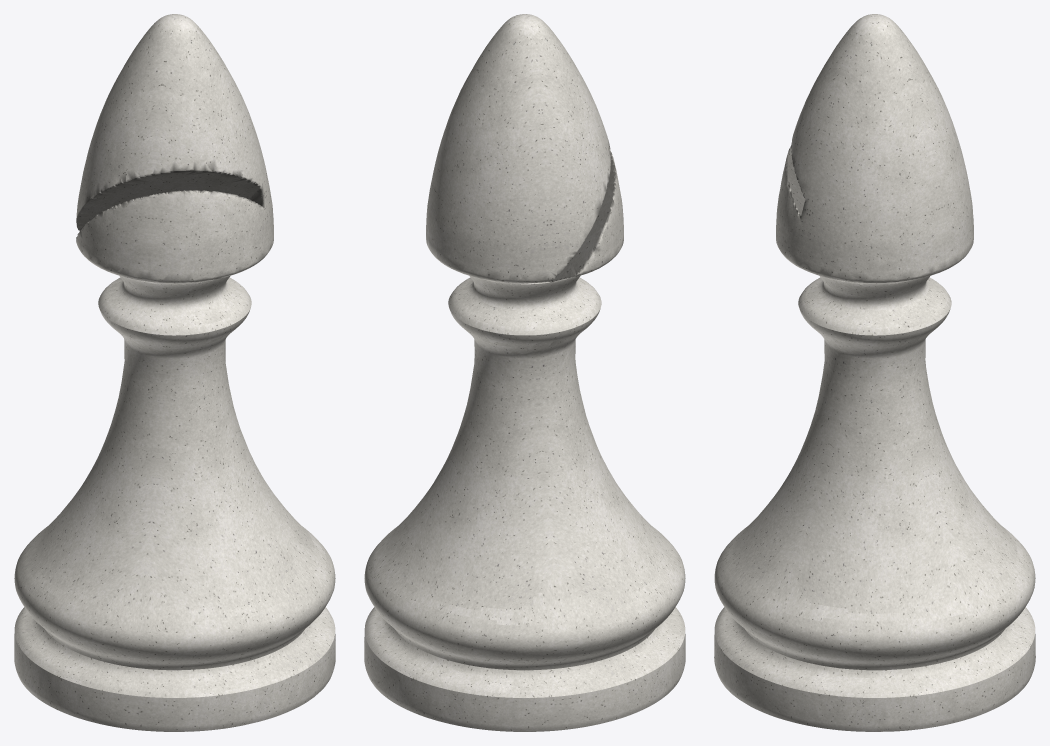
The model's file is bishop-white-hd.glb.
3 renders of one model, left to right at view 1: azimuth 30°, elevation 25°; view 2: azimuth 150°, elevation 25°; view 3: azimuth 270°, elevation 25°, orthographic.
Parts seen in each view (by area): view 1: strelec_bila; view 2: strelec_bila; view 3: strelec_bila.
Part boxes in pixels (<box>): strelec_bila: <box>14,14,335,731</box>; strelec_bila: <box>364,14,685,731</box>; strelec_bila: <box>714,14,1035,731</box>.
Size of the model in its own units: 0.584 by 1.32 by 0.5842.
1 material, 1 textured.
